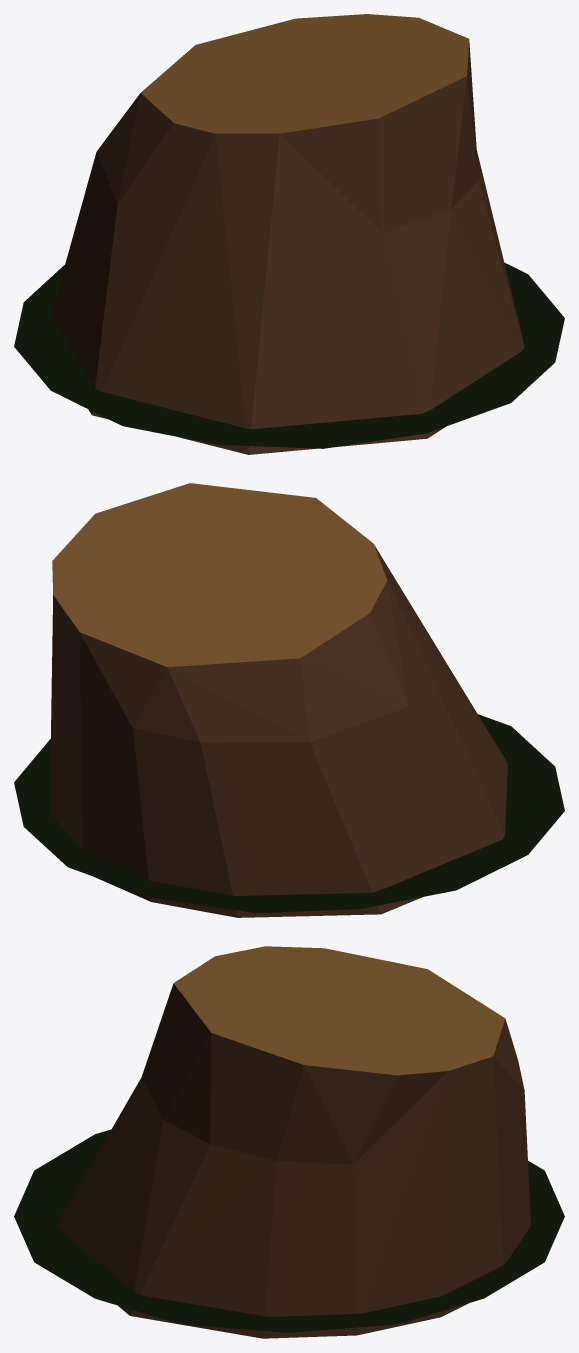
The model's file is Pien1.fbx.
3 views of the same model, one above another, from view 1: azimuth 30°, elevation 25°; view 2: azimuth 150°, elevation 25°; view 3: azimuth 270°, elevation 25° (orthographic).
Parts seen in each view (by area): view 1: Pień1; view 2: Pień1; view 3: Pień1.
Part boxes in pixels (<box>): Pień1: <box>14,14,564,454</box>; Pień1: <box>14,483,564,917</box>; Pień1: <box>14,946,564,1338</box>.
Size of the model in its own units: 78.44 by 42.7 by 78.44.
